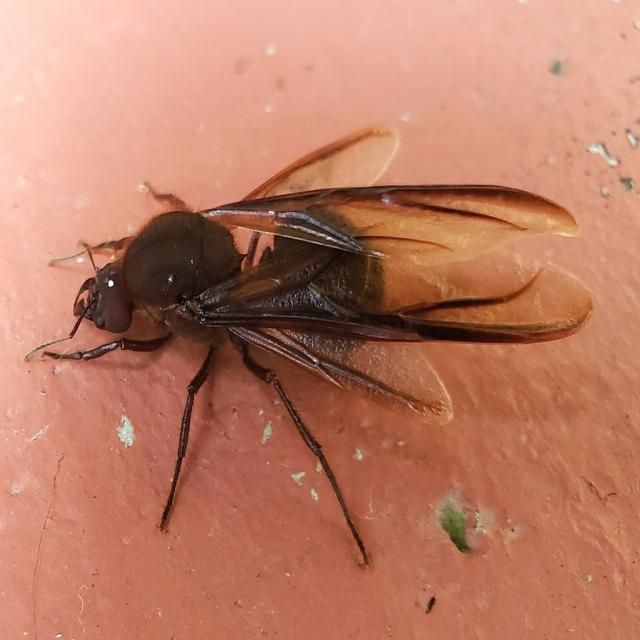Alive-Female-Alate: (21, 123, 595, 571)
